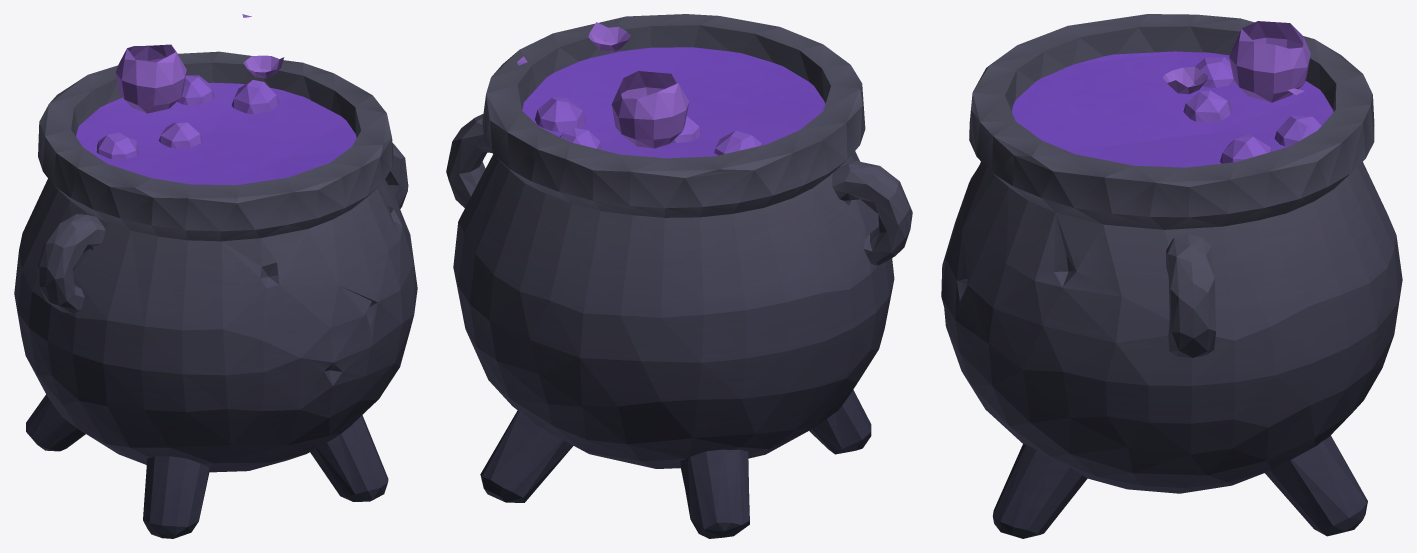
The model's file is EVHalloween_Decor_WitchesCauldron.fbx.
The picture shows the model from 3 angles, left to right: view 1: azimuth 30°, elevation 25°; view 2: azimuth 150°, elevation 25°; view 3: azimuth 270°, elevation 25°; orthographic projection. The views are drawn at different scales.
Visible parts, largest first — view 1: EVHalloween_Decor_PumpkinOrange; view 2: EVHalloween_Decor_PumpkinOrange; view 3: EVHalloween_Decor_PumpkinOrange.
Part boxes in pixels (x1,y1,x2,y2): EVHalloween_Decor_PumpkinOrange: (14,14,417,538); EVHalloween_Decor_PumpkinOrange: (446,14,912,538); EVHalloween_Decor_PumpkinOrange: (941,14,1402,538).
Size of the model in its own units: 43.6 by 42.19 by 39.15.
